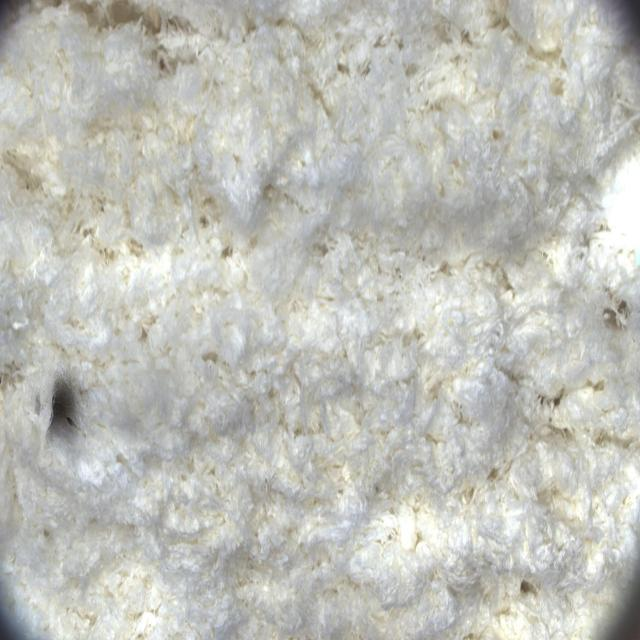dust: (17, 344, 118, 467)
